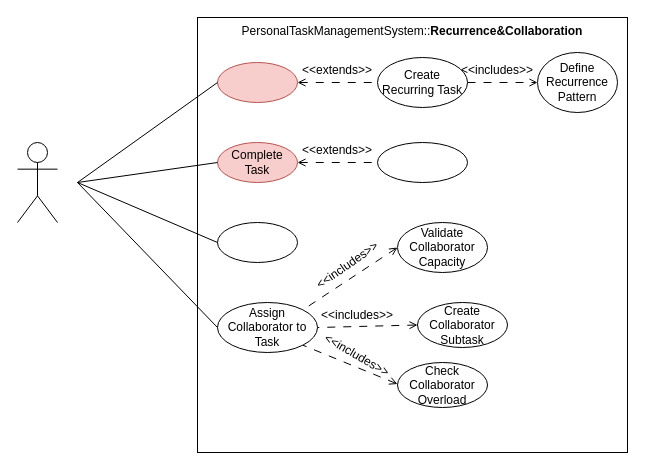
Some shapes in this 645 by 470 pixel diagram are drawn without their labels. The shapes that lost their labels are listed below. From the top down, each one's centre as x and y in pixels, then its label:
the point at 257,82: Create Task
the point at 37,182: User
the point at 422,162: Complete Task Occurence
the point at 257,242: Create Collaborator
